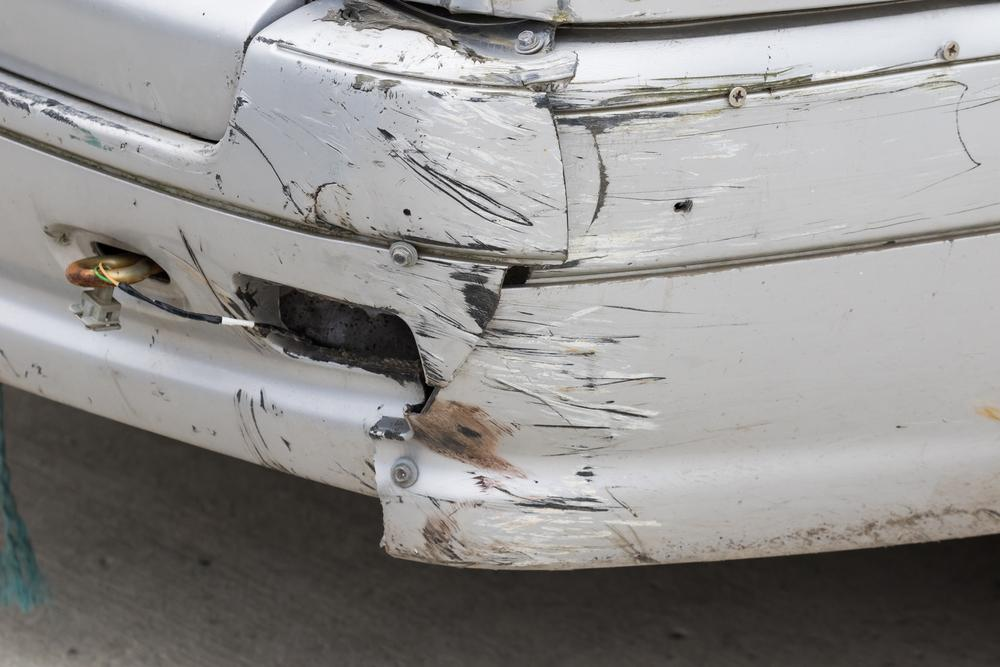crack: (403, 370, 434, 416)
scratch: (228, 21, 1000, 267), (407, 255, 660, 568), (0, 82, 153, 154), (233, 388, 296, 471)
